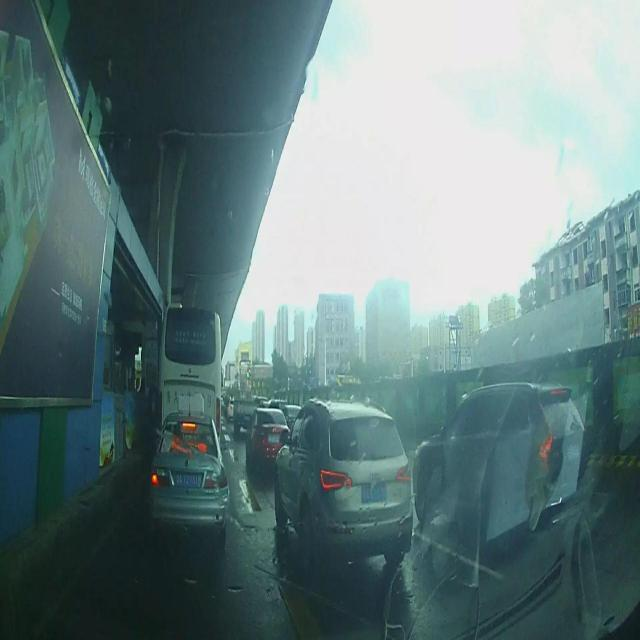car: (412, 380, 584, 562), (273, 394, 413, 574), (153, 406, 229, 551), (246, 408, 293, 472)
